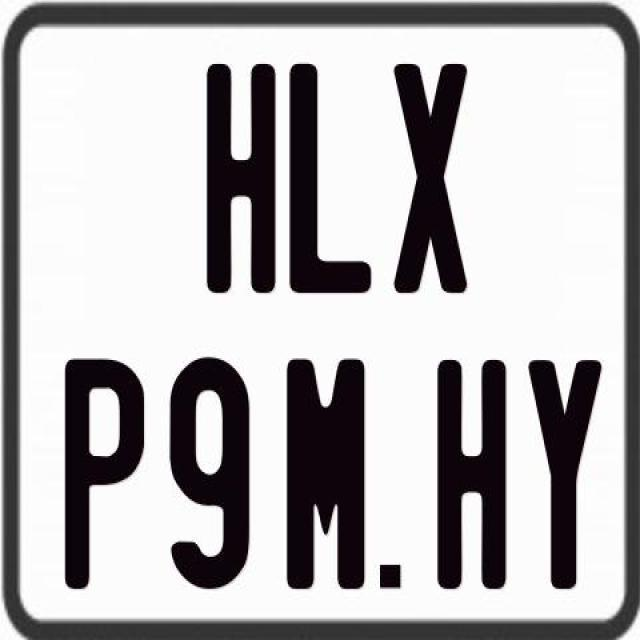9: (166, 356, 254, 598)
H: (206, 63, 282, 294), (434, 358, 510, 589)
L: (286, 59, 374, 293)
M: (286, 358, 366, 589)
P: (62, 353, 142, 592)
X: (390, 63, 462, 294)
Y: (530, 357, 610, 586)
